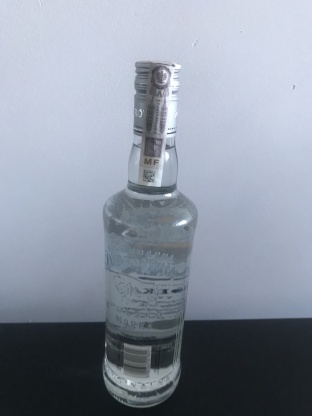nakretka: (130, 53, 183, 140)
